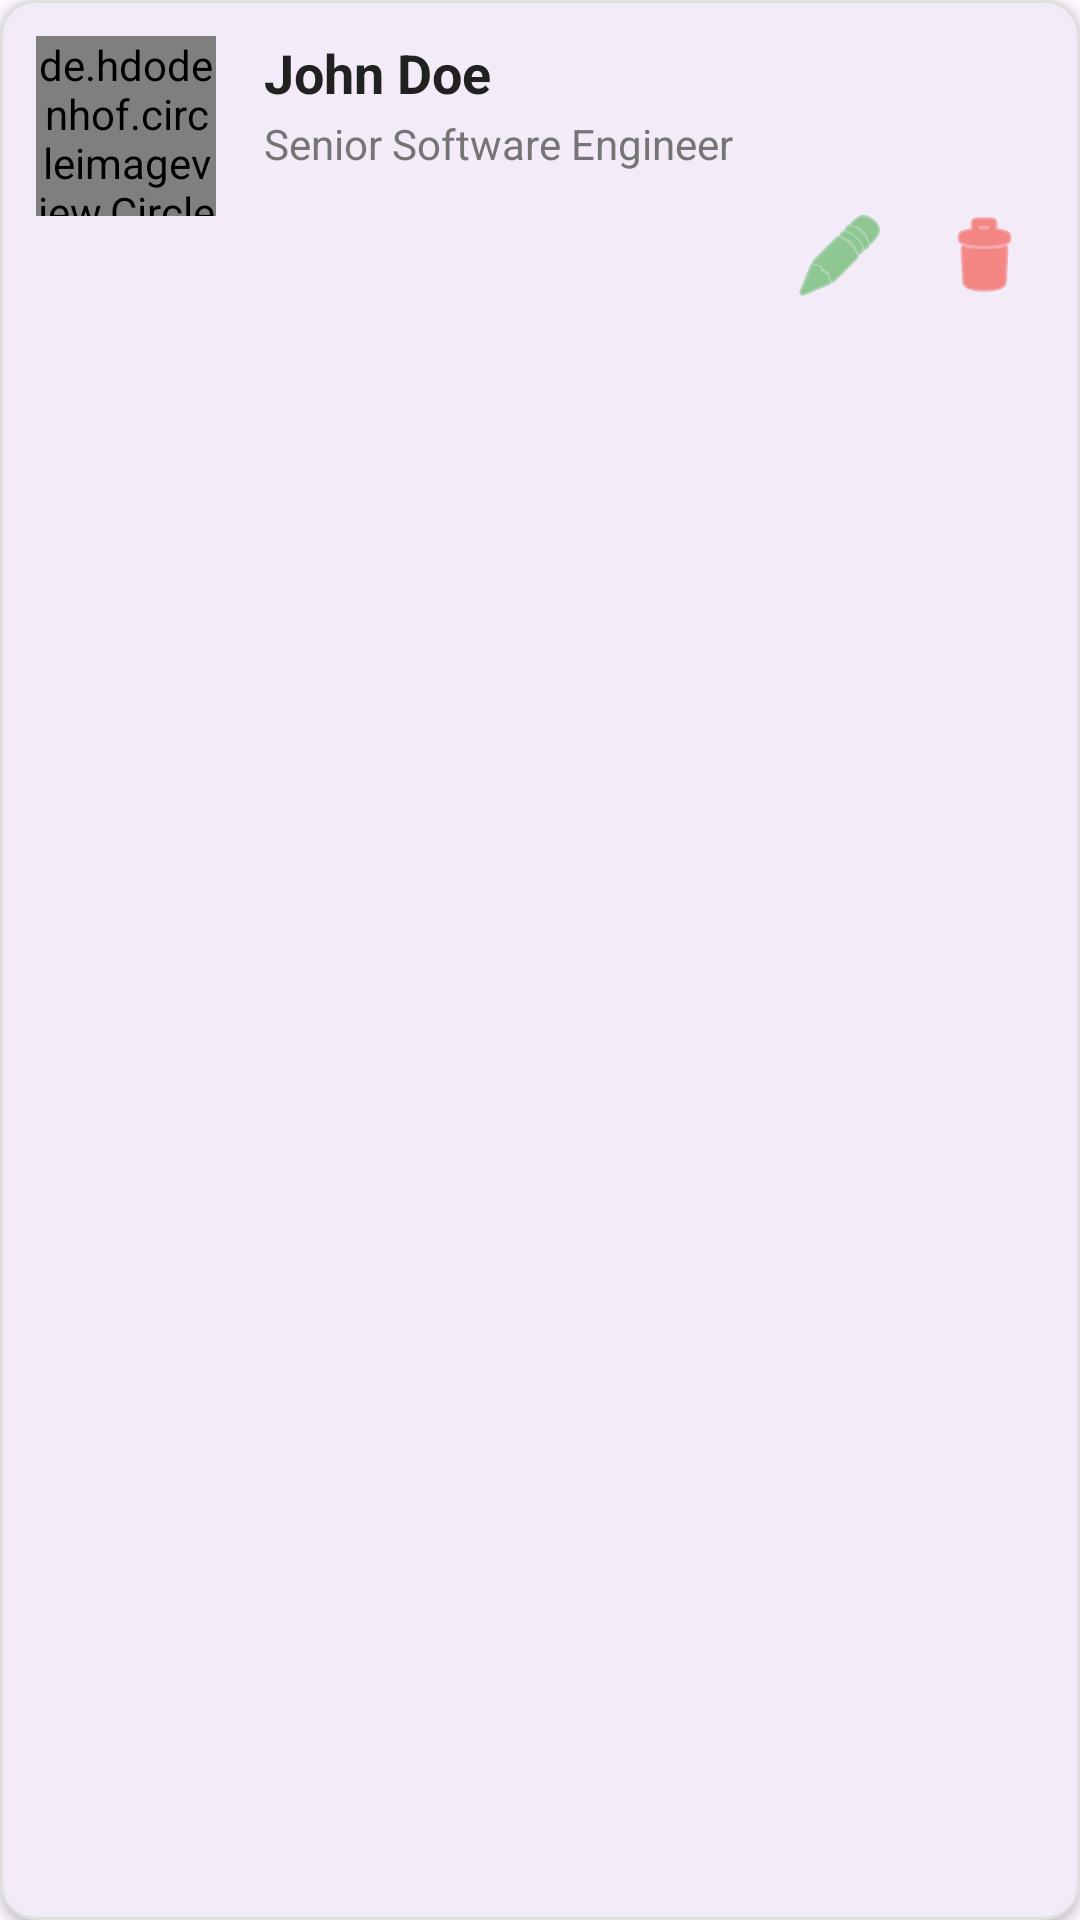

Named icons in this screenshot (1080 × 1920) and their centers, (x=x, y=y):
delete: (x=984, y=254)
edit: (x=839, y=255)
